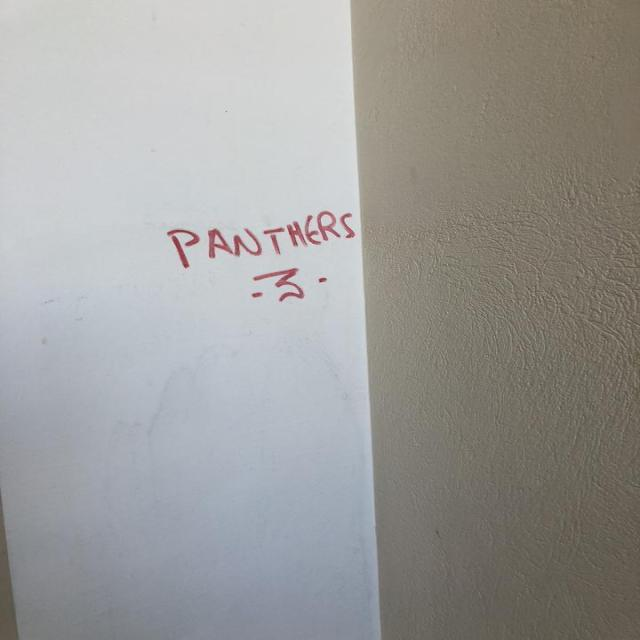nonspitting: (166, 211, 357, 301)
